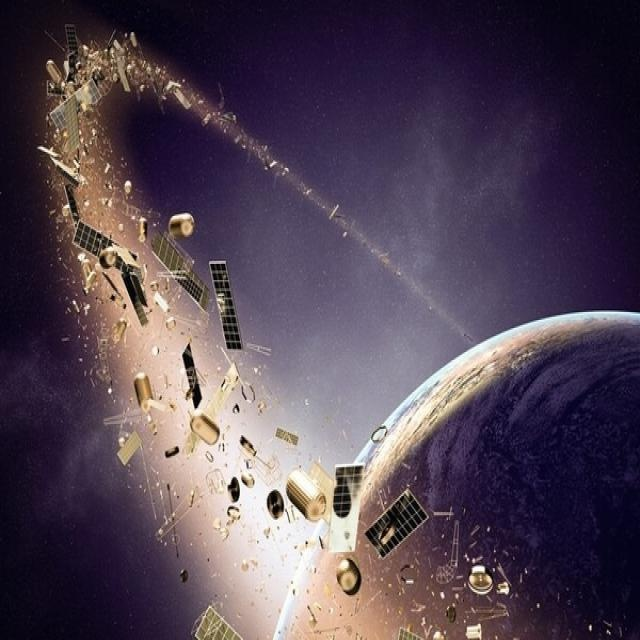large_debris: (71, 218, 151, 330), (179, 339, 250, 461), (149, 470, 205, 572), (149, 223, 211, 314), (99, 362, 169, 438), (45, 74, 105, 162), (362, 482, 429, 559), (327, 457, 367, 561), (207, 254, 243, 356), (283, 465, 326, 529), (189, 595, 247, 640), (181, 334, 203, 408), (331, 554, 365, 596), (466, 560, 494, 600), (167, 209, 197, 243), (273, 424, 301, 457), (264, 482, 286, 523), (454, 619, 485, 640), (225, 472, 241, 508)
